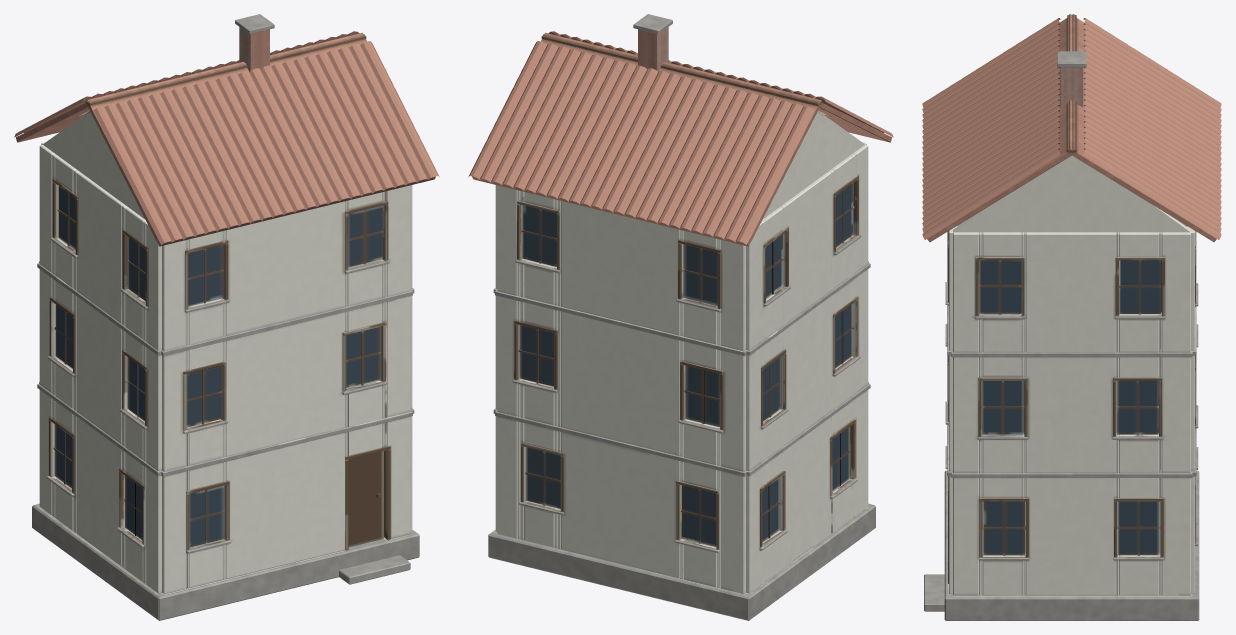
File: house_tall.glb
3 renders of one model, left to right at view 1: azimuth 30°, elevation 25°; view 2: azimuth 150°, elevation 25°; view 3: azimuth 270°, elevation 25°, orthographic.
Parts seen in each view (by area): view 1: house_tall; view 2: house_tall; view 3: house_tall.
Boxes of the visible parts, left/top/right/bottom form: house_tall: left=16, top=14, right=435, bottom=620; house_tall: left=472, top=14, right=891, bottom=620; house_tall: left=924, top=14, right=1216, bottom=620.
Size of the model in its own units: 6.77 by 11.93 by 6.3.
2 materials, 1 textured.
